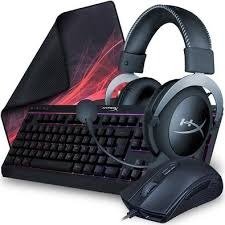keyboard: (0, 101, 224, 186)
mouse: (121, 157, 225, 223)
